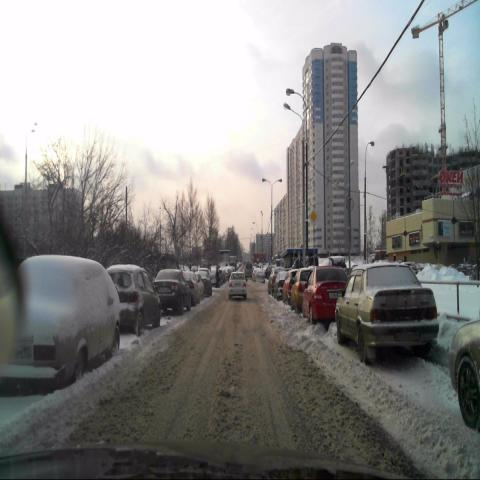2_1: (308, 207, 318, 225)
